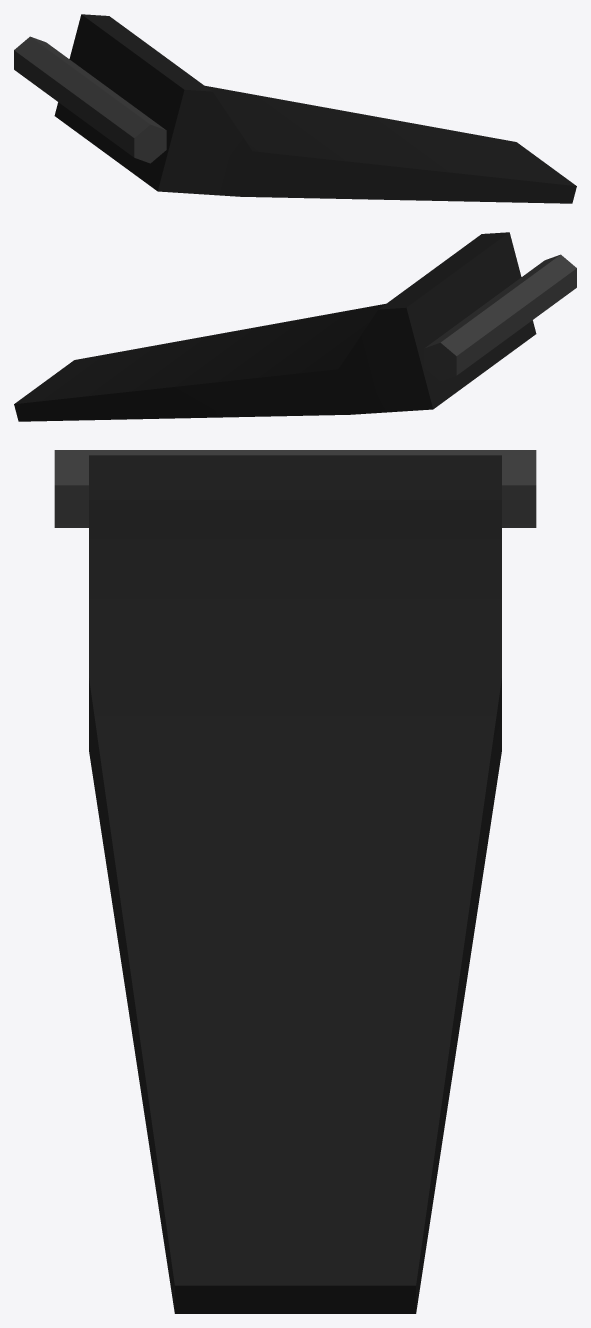
The model's file is FireExtinguisher_01_2.fbx.
The picture shows the model from 3 angles, top to bottom: view 1: azimuth 30°, elevation 25°; view 2: azimuth 150°, elevation 25°; view 3: azimuth 270°, elevation 25°; orthographic projection. The views are drawn at different scales.
Parts seen in each view (by area): view 1: FireExtinguisher_01_2; view 2: FireExtinguisher_01_2; view 3: FireExtinguisher_01_2.
Part boxes in pixels (x1=…): FireExtinguisher_01_2: x1=14, y1=14, x2=576, y2=203; FireExtinguisher_01_2: x1=14, y1=232, x2=576, y2=421; FireExtinguisher_01_2: x1=54, y1=450, x2=536, y2=1313.
Bounding box in the file's own units: 10.31 × 4.78 × 4.55.
